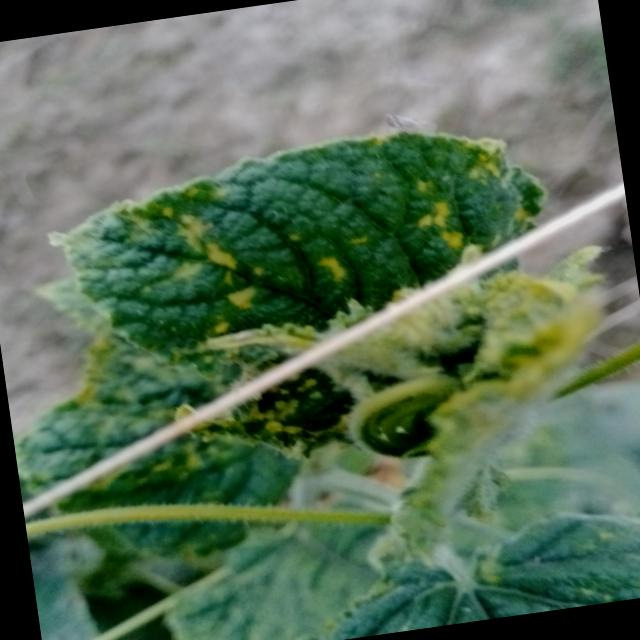cucumber_downy: (52, 104, 608, 482)
